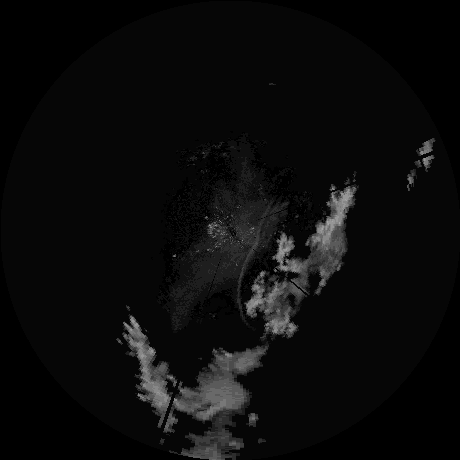frontgust: (236, 205, 272, 317)
